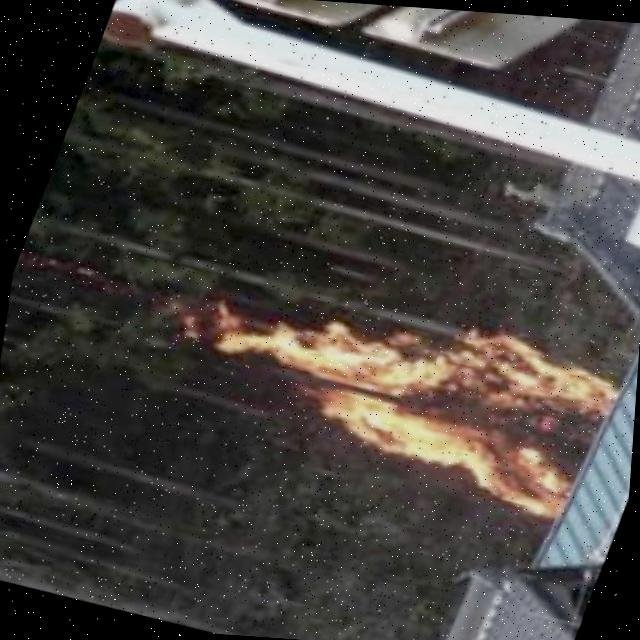fire: (146, 259, 623, 529)
